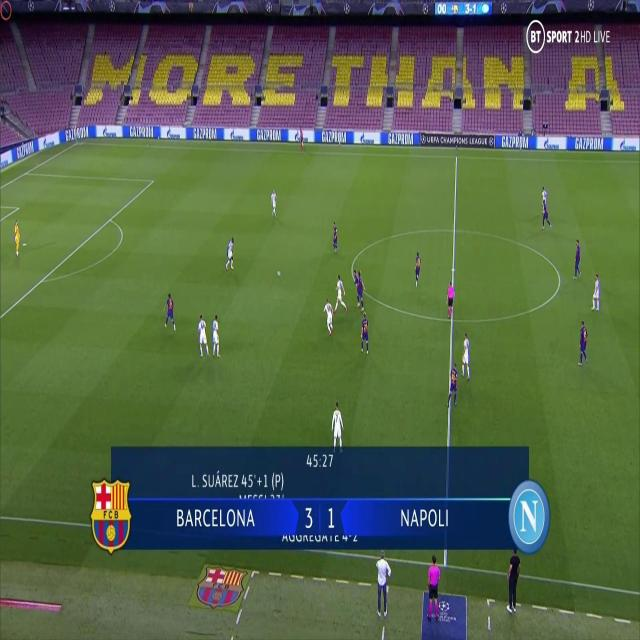ball: (276, 268, 282, 278)
player: (331, 398, 345, 456), (333, 274, 348, 316), (162, 291, 176, 333), (196, 315, 210, 357), (460, 331, 471, 381), (571, 238, 583, 281), (447, 362, 458, 408), (590, 272, 602, 314), (577, 321, 588, 366), (321, 298, 334, 336), (445, 279, 456, 320), (211, 314, 221, 359), (413, 248, 423, 289), (361, 310, 369, 356), (13, 215, 21, 260), (225, 236, 235, 272), (357, 270, 366, 310), (542, 198, 553, 229), (352, 268, 360, 307), (331, 219, 338, 255), (540, 188, 548, 216), (271, 187, 278, 218), (297, 125, 305, 152)
